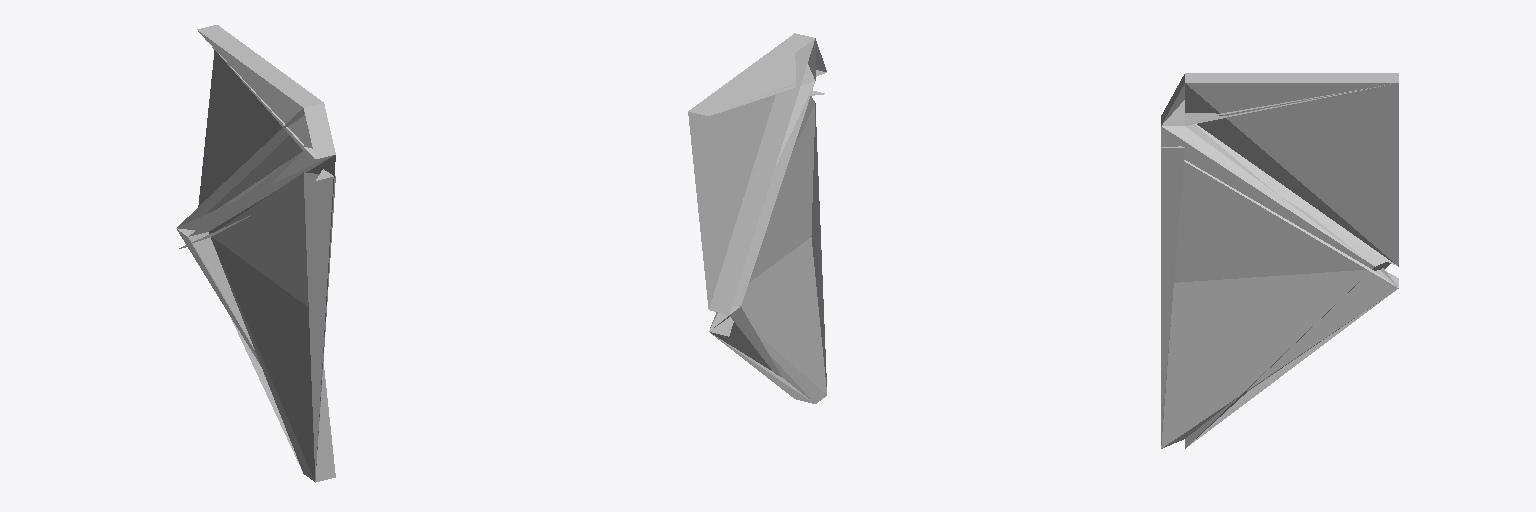
The model's file is Bathroom Door Alt.obj.
The picture shows the model from 3 angles: view 1: azimuth 30°, elevation 25°; view 2: azimuth 150°, elevation 25°; view 3: azimuth 270°, elevation 25°; orthographic projection.
Size of the model in its own units: 2 by 17 by 10.